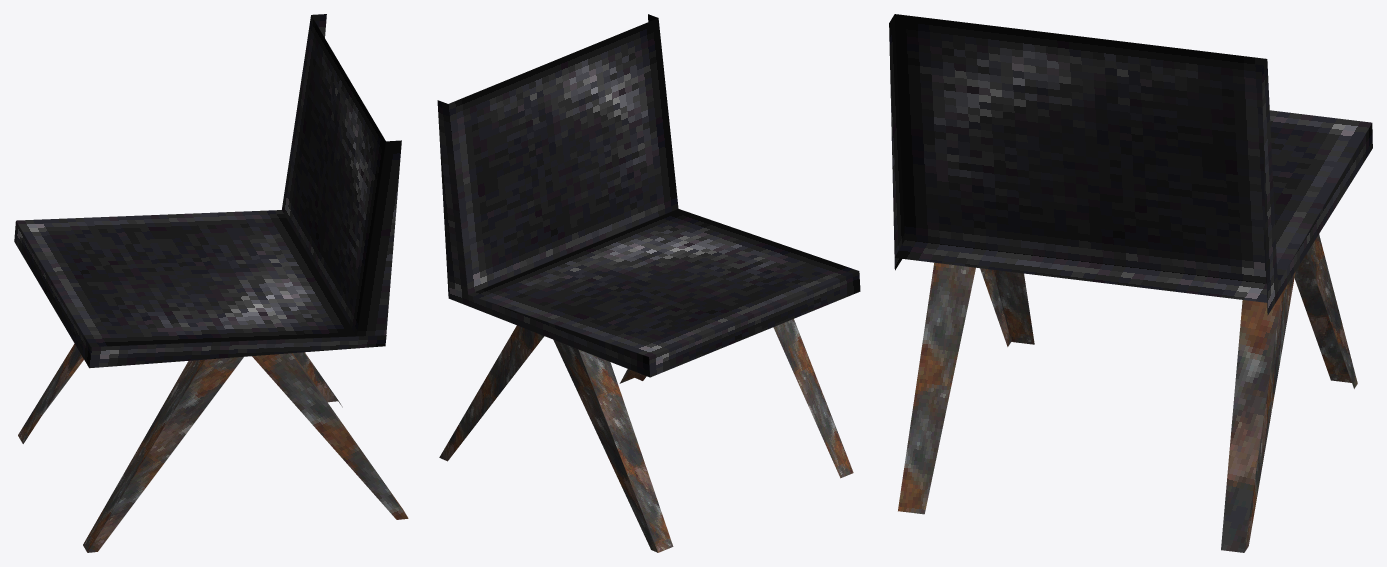
Rendered from primary_270.glb.
The picture shows the model from 3 angles, left to right: view 1: azimuth 30°, elevation 25°; view 2: azimuth 150°, elevation 25°; view 3: azimuth 270°, elevation 25°; orthographic projection. The views are drawn at different scales.
Parts seen in each view (by area): view 1: Object; view 2: Object; view 3: Object.
Boxes of the visible parts, x1=… form: Object: x1=14, y1=14, x2=408, y2=552; Object: x1=437, y1=14, x2=860, y2=552; Object: x1=889, y1=14, x2=1372, y2=552.
Bounding box in the file's own units: 0.8438 × 0.8928 × 0.8113.
2 materials, 2 textured.
